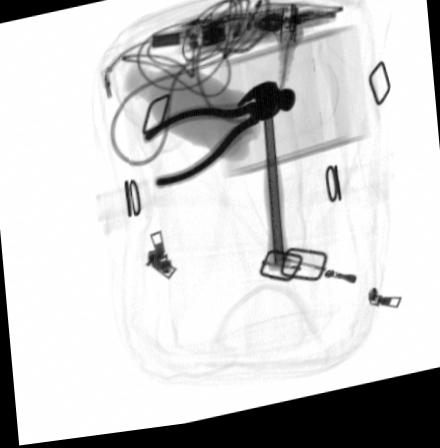Hammer: (236, 88, 295, 280)
Pliers: (140, 103, 284, 192)
